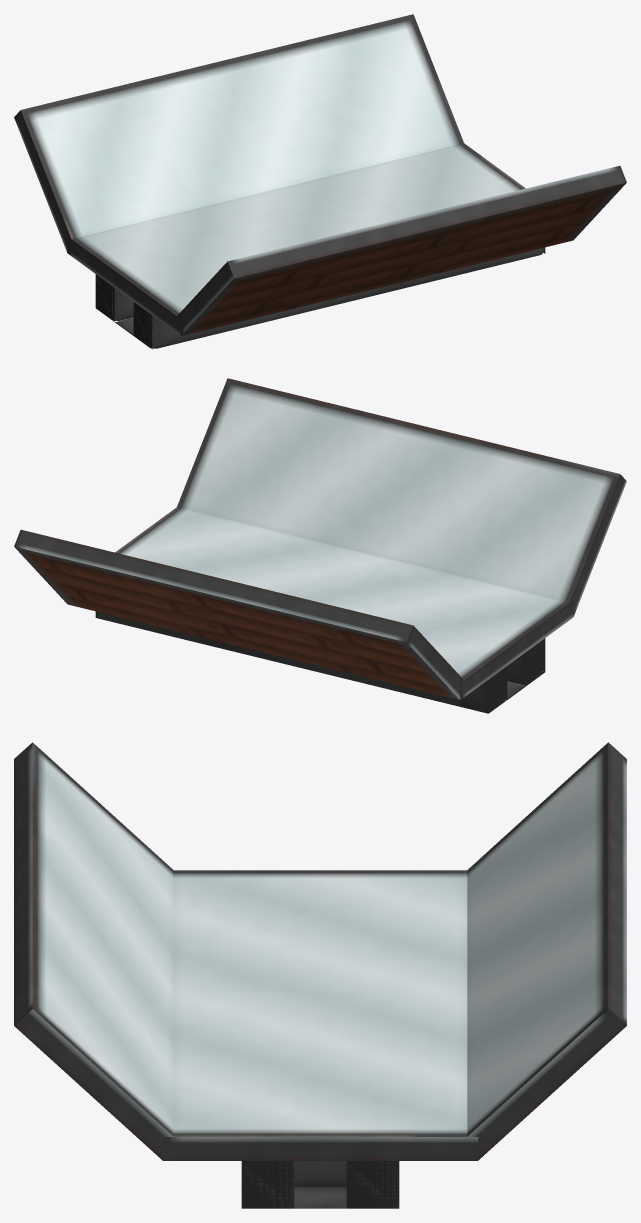
Rendered from solar_reflector_mirror.obj.
The picture shows the model from 3 angles, top to bottom: view 1: azimuth 30°, elevation 25°; view 2: azimuth 150°, elevation 25°; view 3: azimuth 270°, elevation 25°; orthographic projection. The views are drawn at different scales.
Parts seen in each view (by area): view 1: mirror; view 2: mirror; view 3: mirror.
Part boxes in pixels (<box>): mirror: <box>14,14,626,349</box>; mirror: <box>14,378,626,713</box>; mirror: <box>14,742,626,1208</box>.
Size of the model in its own units: 3 by 1.05 by 2.91.
